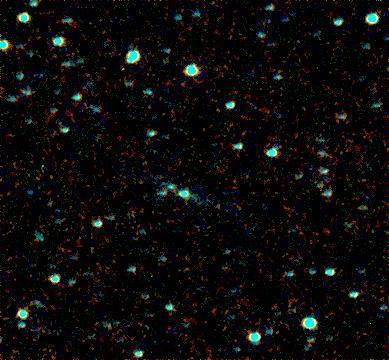star: (202, 189, 232, 219)
